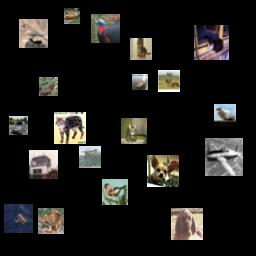airplane: (205, 138, 243, 176), (4, 204, 33, 233), (79, 146, 101, 168)
automobile: (9, 116, 28, 135), (64, 8, 80, 24)
bird: (91, 14, 120, 43), (19, 19, 48, 48), (102, 179, 128, 205)
cat: (194, 25, 229, 60), (54, 112, 86, 144), (121, 118, 147, 144), (214, 104, 236, 126), (130, 38, 152, 60)
deer: (158, 70, 180, 92)
dog: (171, 208, 203, 240), (147, 155, 179, 187)
frog: (38, 208, 64, 234), (39, 77, 58, 96)
ship: (132, 74, 148, 90)
truck: (29, 150, 58, 179)
